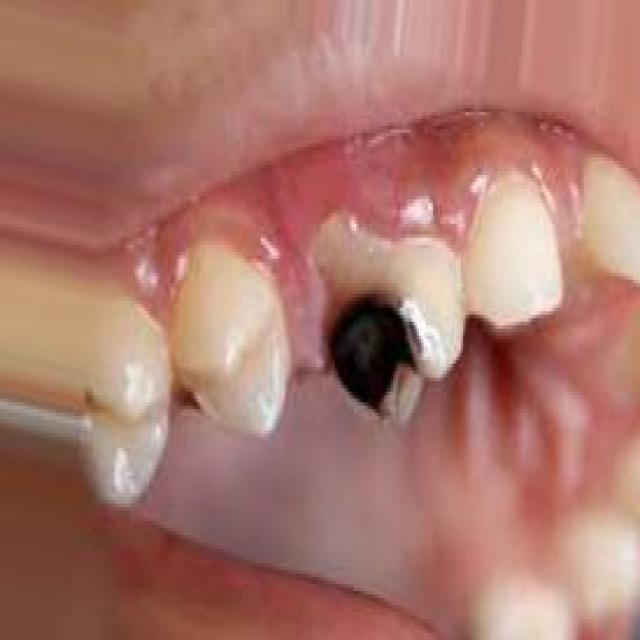caries: (322, 216, 455, 412)
